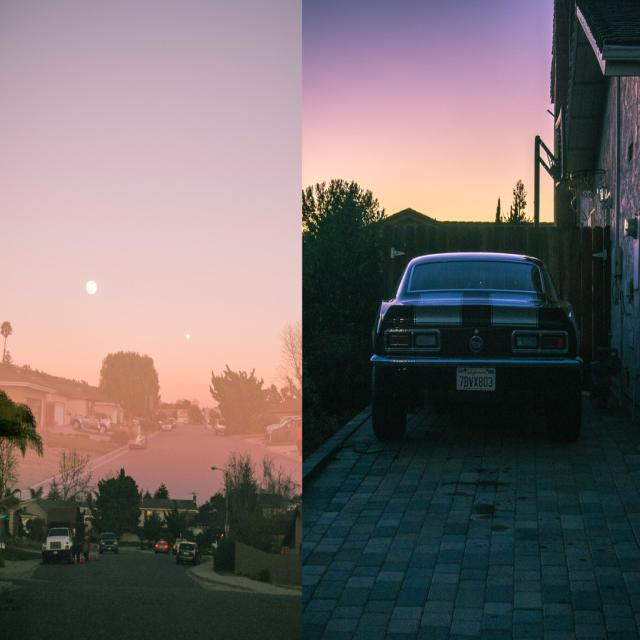car: (365, 248, 587, 441), (100, 530, 117, 553)
